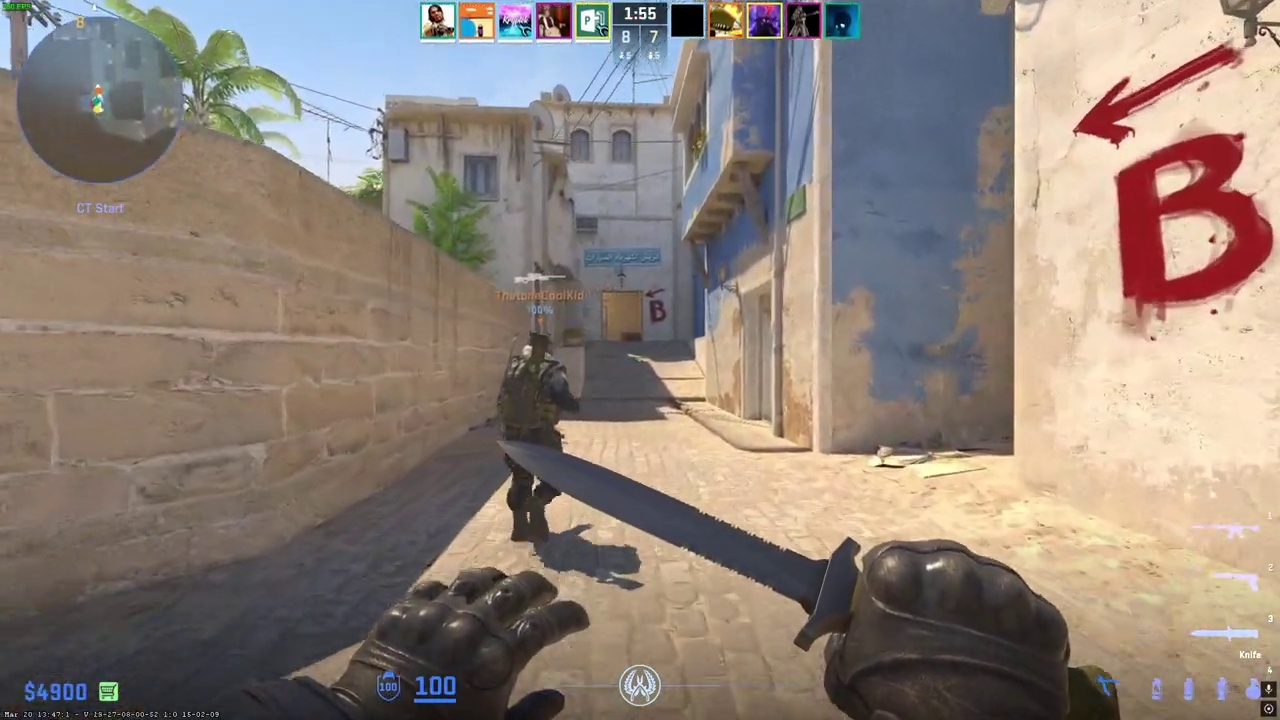CT: (494, 332, 577, 543)
